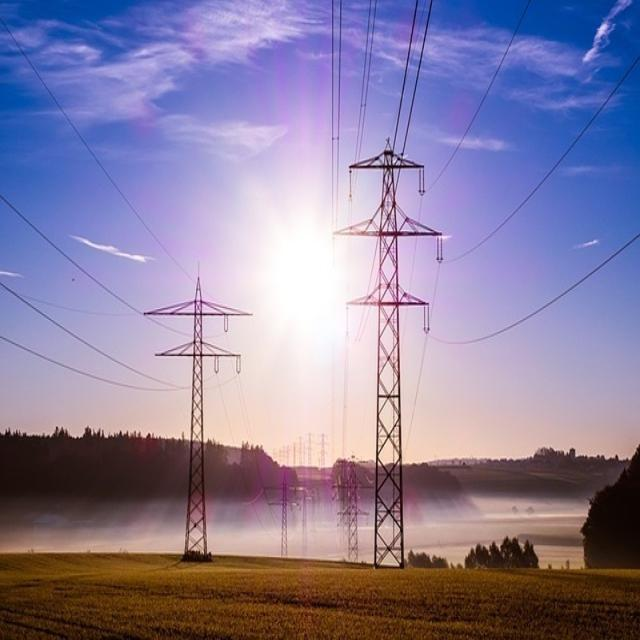non-critical vegetation: (352, 149, 429, 572), (158, 279, 242, 562)
